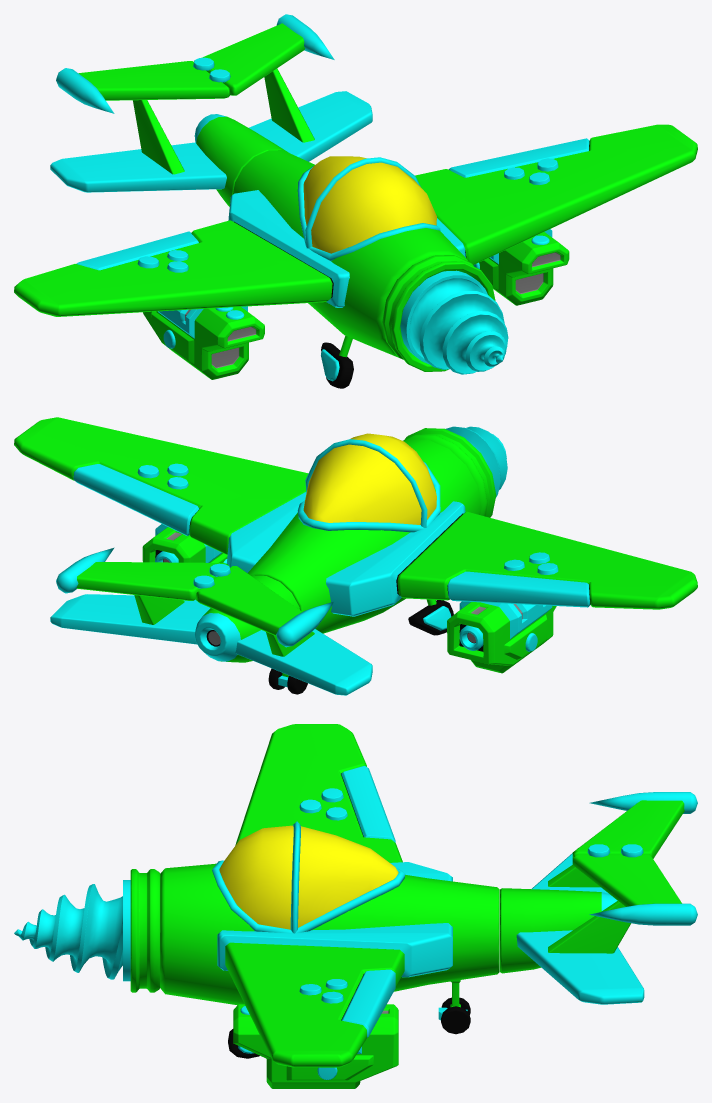
3 renders of one model, top to bottom at view 1: azimuth 30°, elevation 25°; view 2: azimuth 150°, elevation 25°; view 3: azimuth 270°, elevation 25°, orthographic. The views are drawn at different scales.
Visible parts, largest first — view 1: Fin12, Wing12_R, Body12_A, Wing12_L, Propeller12_B, Spurt12_R, Spurt12_L, Propeller12_A, Body12_C; view 2: Wing12_R, Fin12, Wing12_L, Body12_A, Spurt12_R, Propeller12_A, Spurt12_L, Propeller12_B, Body12_C, Body12_B; view 3: Body12_A, Fin12, Wing12_L, Wing12_R, Propeller12_B, Spurt12_L, Propeller12_A, Body12_B.
Boxes of the visible parts, box(x1,y1,x2,y2) form: Fin12: box(50, 14, 372, 206); Wing12_R: box(14, 190, 349, 316); Body12_A: box(233, 150, 468, 357); Wing12_L: box(415, 124, 697, 264); Propeller12_B: box(400, 270, 508, 374); Spurt12_R: box(143, 306, 264, 379); Spurt12_L: box(473, 229, 569, 305); Propeller12_A: box(382, 255, 495, 371); Body12_C: box(321, 335, 353, 388); Wing12_R: box(326, 501, 697, 616); Fin12: box(50, 547, 372, 695); Wing12_L: box(14, 417, 308, 572); Body12_A: box(247, 433, 481, 633); Spurt12_R: box(447, 601, 556, 673); Propeller12_A: box(403, 428, 496, 517); Spurt12_L: box(142, 524, 227, 563); Propeller12_B: box(446, 426, 507, 497); Body12_C: box(408, 599, 453, 635); Body12_B: box(268, 668, 307, 694); Body12_A: box(160, 821, 499, 1005); Fin12: box(500, 792, 697, 1004); Wing12_L: box(217, 923, 452, 1067); Wing12_R: box(235, 724, 452, 881); Propeller12_B: box(14, 880, 130, 981); Spurt12_L: box(233, 1004, 398, 1088); Propeller12_A: box(130, 869, 160, 992); Body12_B: box(438, 980, 470, 1034).
Bounding box in the file's own units: 22.74 × 6.5 × 19.63.
